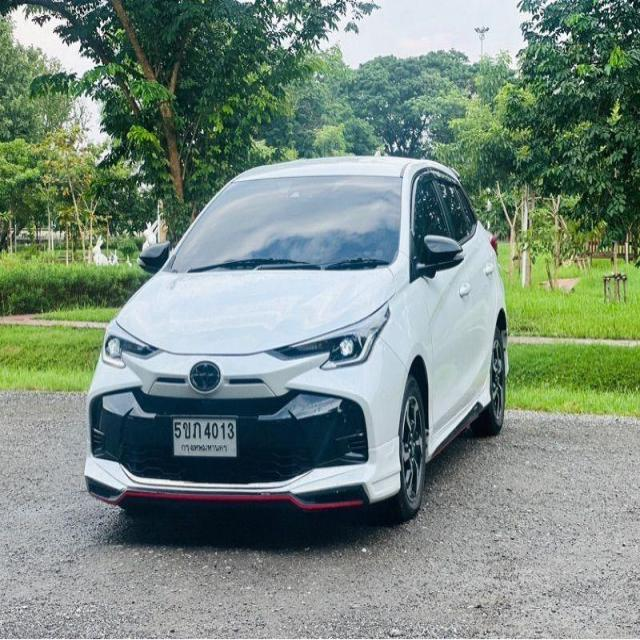Hatchback: (83, 155, 510, 527)
